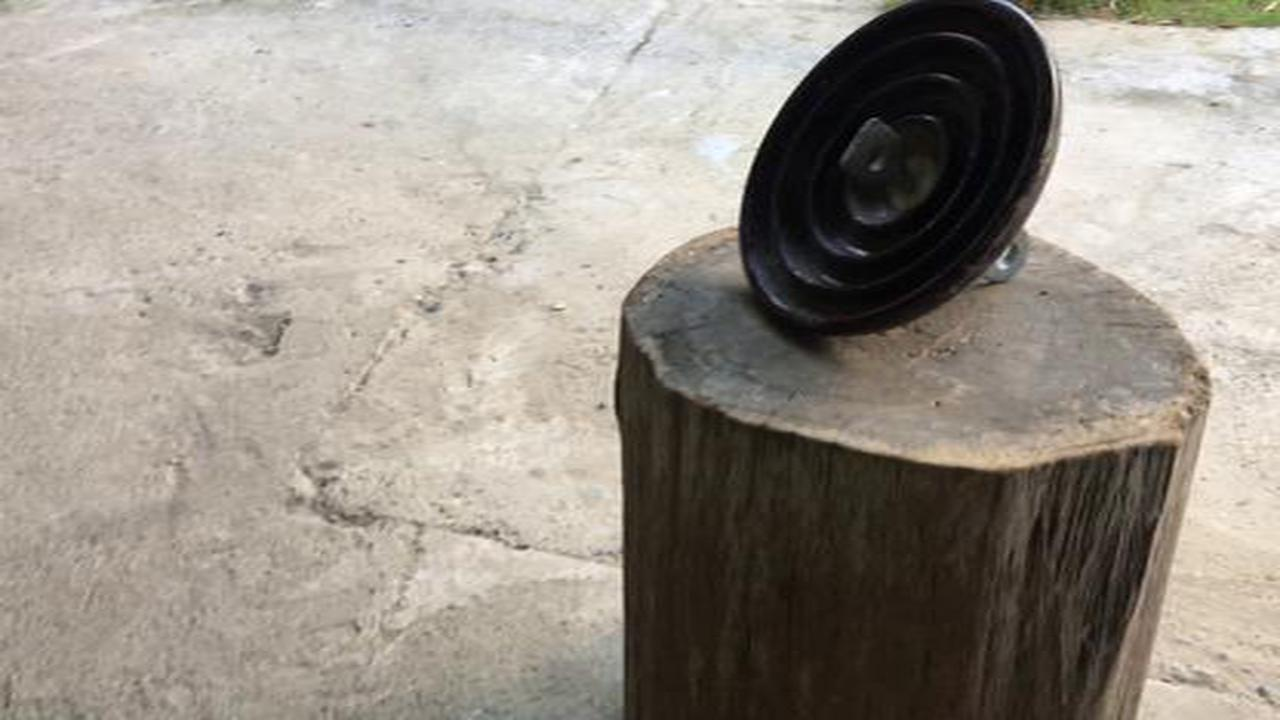insulator_disc: (734, 12, 1063, 342)
